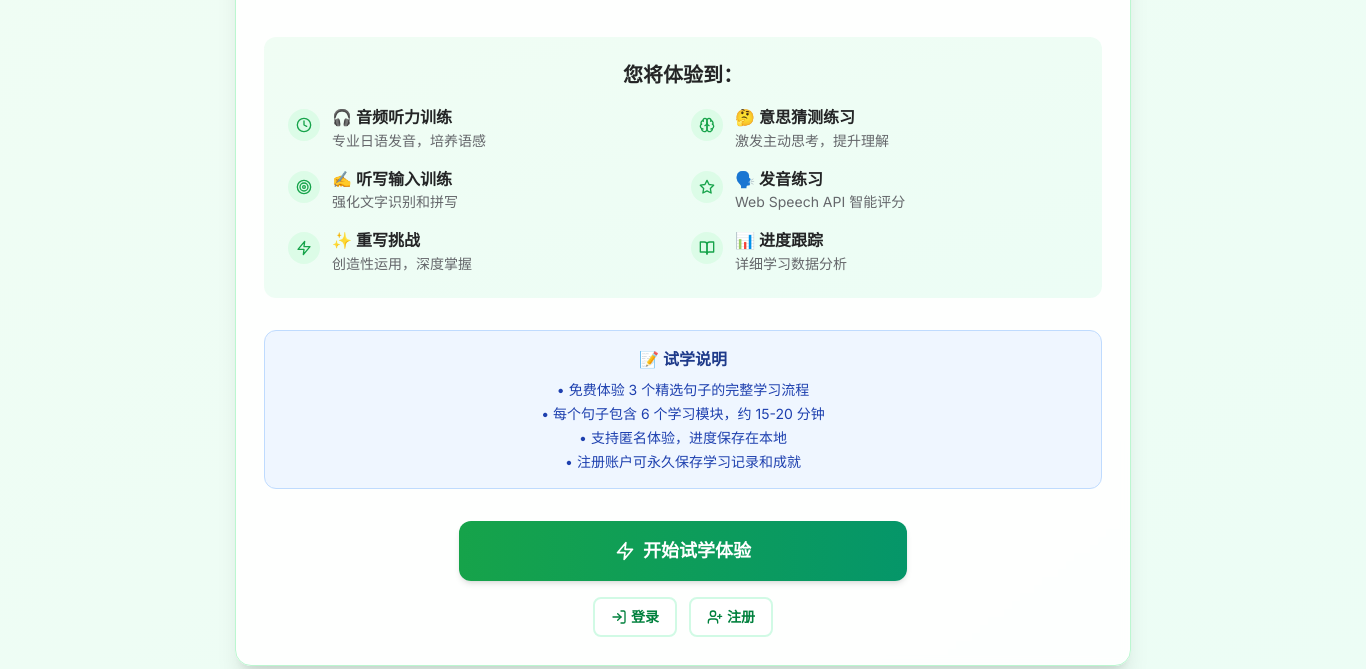
it: CampBreakthroughLearning › 点击开始按钮进入学习界面
The image size is (1366, 669).
(page scrolled)
Click the button "开始试学体验": x=683, y=551 [459,521,907,581]
(page scrolled)
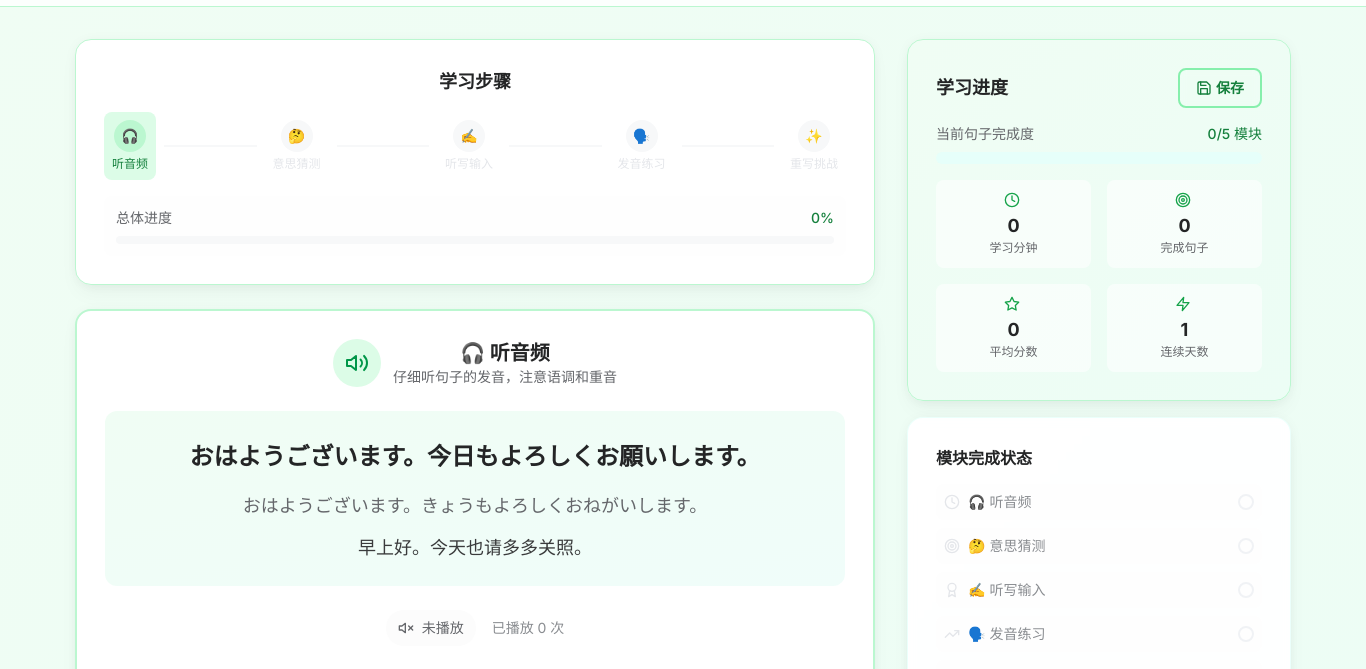
Expected: the heading "学习步骤" is shown, [439,71,511,92]
